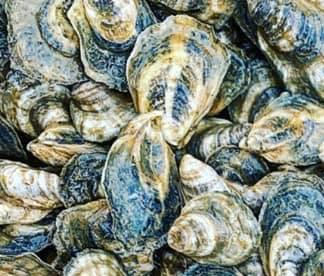Oyster- Indeterminate: (67, 0, 158, 91), (55, 198, 154, 276), (0, 114, 30, 162)
Oyster-Closed: (127, 14, 229, 147), (101, 110, 184, 252), (247, 0, 324, 106), (166, 191, 264, 266), (258, 172, 324, 276), (7, 0, 88, 84), (249, 94, 324, 163), (228, 48, 289, 123), (71, 79, 136, 142), (158, 246, 267, 276), (28, 124, 105, 166), (209, 41, 252, 116), (0, 160, 65, 208), (15, 83, 72, 136), (148, 0, 242, 29), (186, 120, 251, 160), (206, 144, 270, 184), (180, 154, 231, 204), (222, 172, 283, 210), (64, 154, 107, 204), (62, 250, 133, 276), (0, 194, 52, 228), (0, 252, 63, 276)
